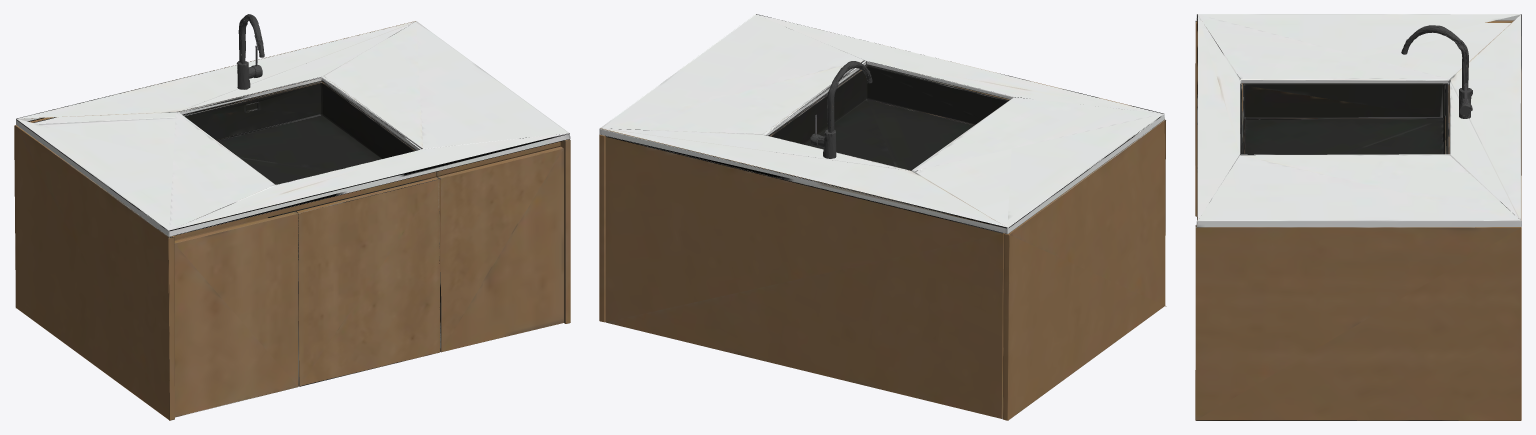
Rendered from desktop.glb.
3 views of the same model, side by side, from view 1: azimuth 30°, elevation 25°; view 2: azimuth 150°, elevation 25°; view 3: azimuth 270°, elevation 25° (orthographic). The views are drawn at different scales.
Parts seen in each view (by area): view 1: counter; view 2: counter; view 3: counter.
Part boxes in pixels (left/top/right/bottom): counter: left=14, top=14, right=570, bottom=420; counter: left=599, top=14, right=1166, bottom=420; counter: left=1195, top=14, right=1521, bottom=420.
Bounding box in the file's own units: 1.6 × 1.04 × 1.06.
Materials: 1 (1 with a texture image).
